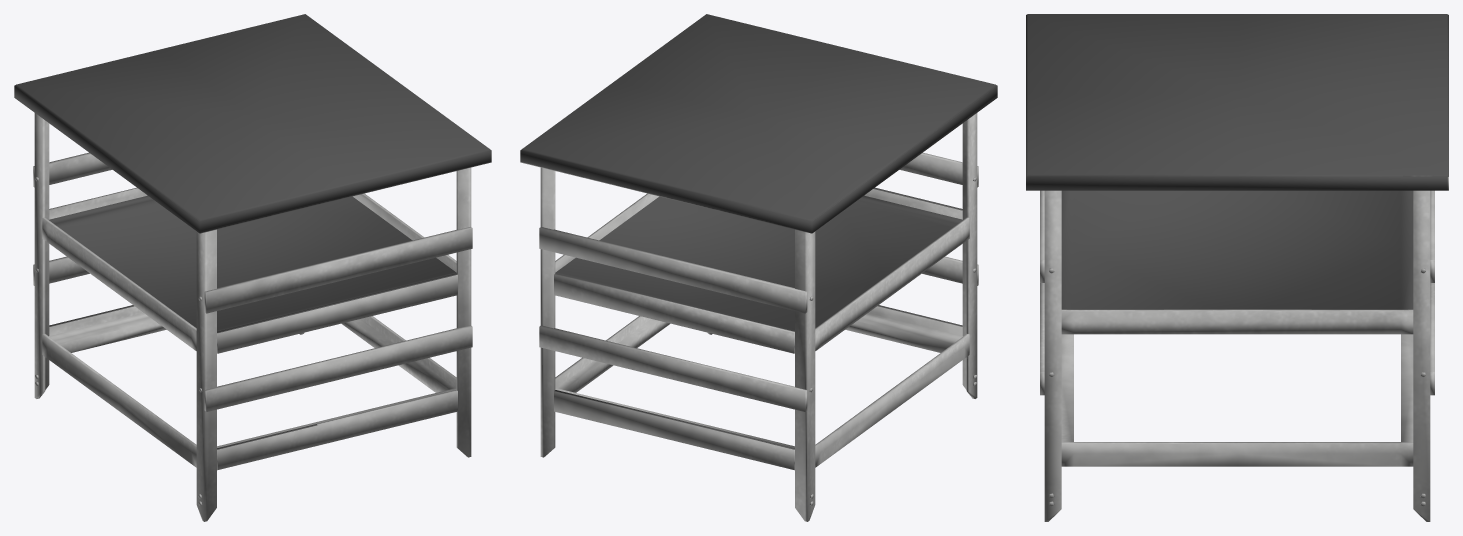
File: LaundryStand.obj
3 views of the same model, side by side, from view 1: azimuth 30°, elevation 25°; view 2: azimuth 150°, elevation 25°; view 3: azimuth 270°, elevation 25° (orthographic). The views are drawn at different scales.
Parts seen in each view (by area): view 1: LaundryStand.obj; view 2: LaundryStand.obj; view 3: LaundryStand.obj.
Boxes of the visible parts, box(x1,y1,x2,y2) form: LaundryStand.obj: box(14, 14, 491, 521); LaundryStand.obj: box(520, 14, 997, 521); LaundryStand.obj: box(1026, 14, 1448, 521).
Size of the model in its own units: 0.682 by 0.694 by 0.752.
